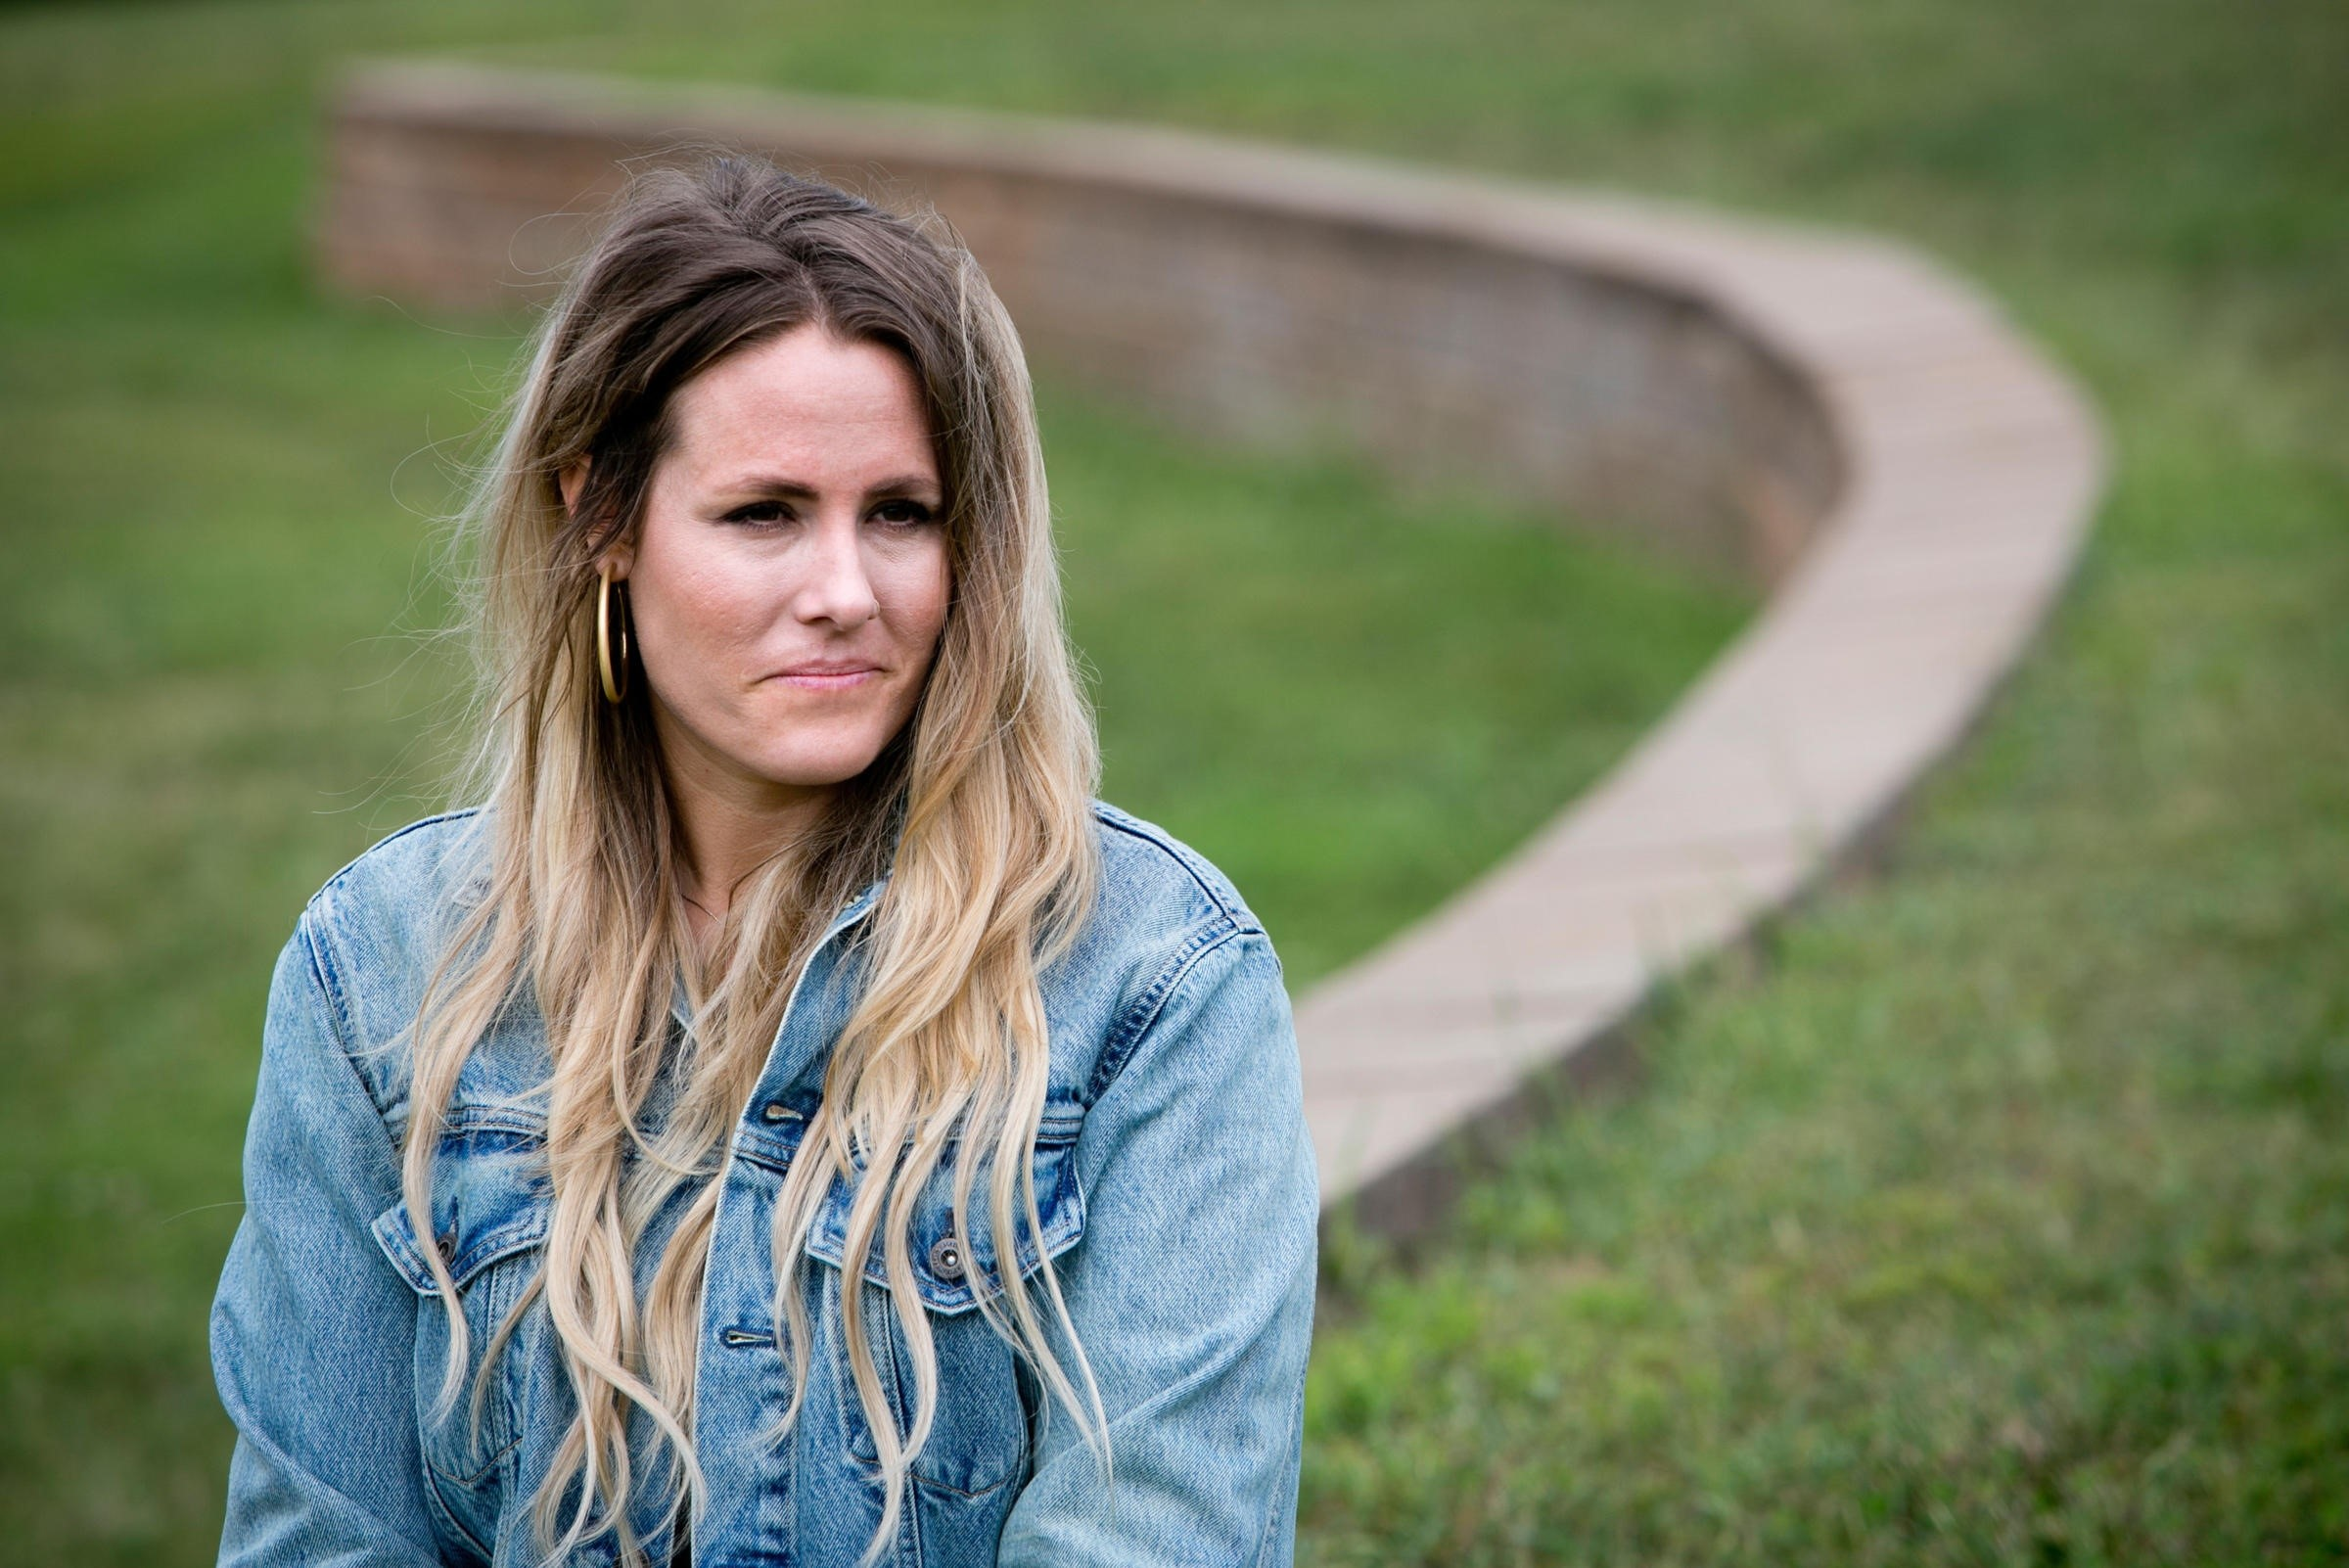face_no_mask: (536, 160, 1030, 793)
